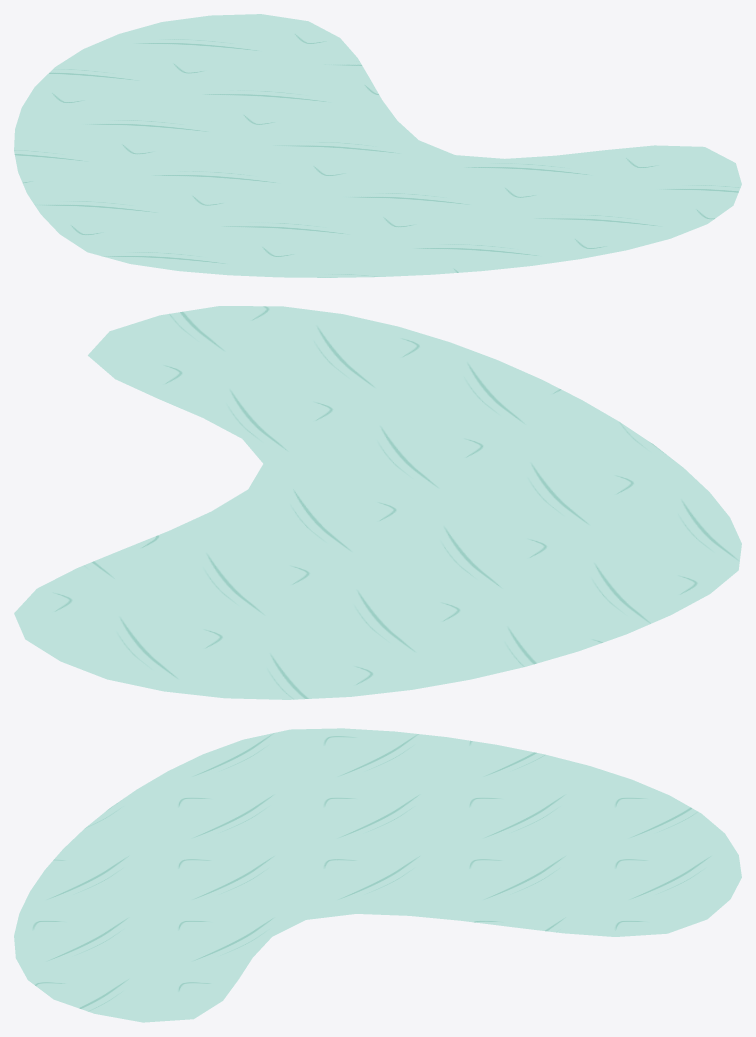
The model's file is llac.fbx.
3 views of the same model, one above another, from view 1: azimuth 30°, elevation 25°; view 2: azimuth 150°, elevation 25°; view 3: azimuth 270°, elevation 25° (orthographic). The views are drawn at different scales.
Visible parts, largest first — view 1: Extrude; view 2: Extrude; view 3: Extrude.
Boxes of the visible parts, x1=… form: Extrude: x1=14, y1=14, x2=741, y2=277; Extrude: x1=14, y1=306, x2=741, y2=699; Extrude: x1=14, y1=728, x2=741, y2=1022.
Bounding box in the file's own units: 6853 × 0 × 7165.
1 material, 1 textured.
